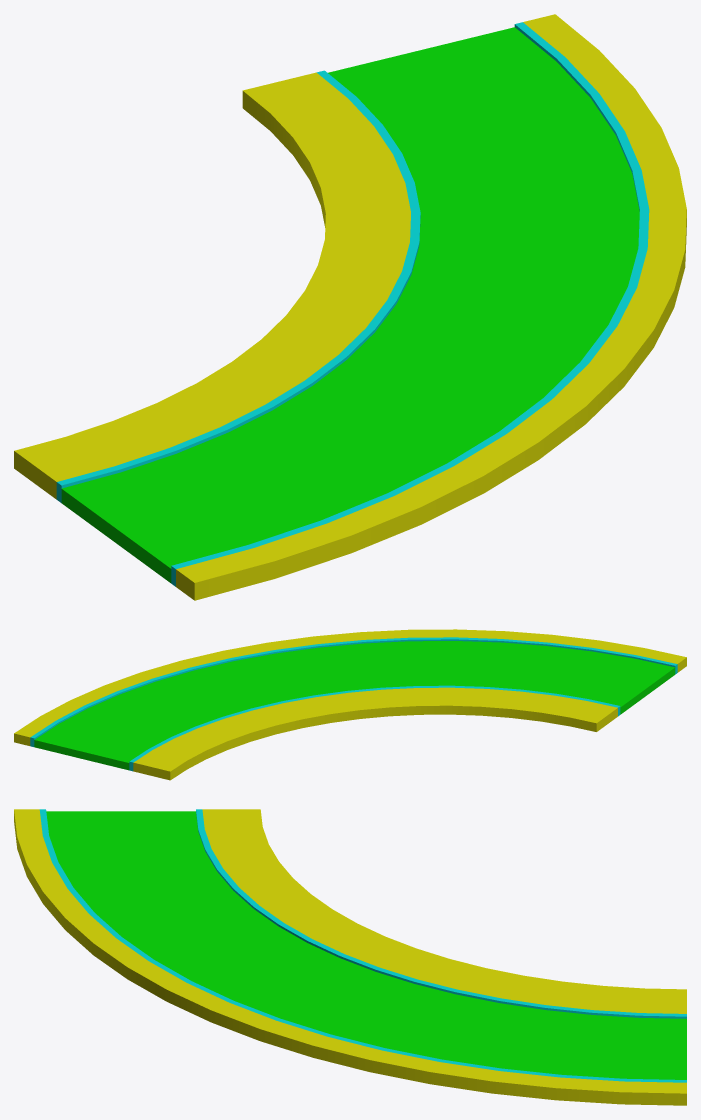
Rendered from Left_Turn_road.fbx.
3 renders of one model, top to bottom at view 1: azimuth 30°, elevation 25°; view 2: azimuth 150°, elevation 25°; view 3: azimuth 270°, elevation 25°, orthographic. The views are drawn at different scales.
Visible parts, largest first — view 1: Left_Turn_road; view 2: Left_Turn_road; view 3: Left_Turn_road.
Part boxes in pixels (x1,y1,x2,y2): Left_Turn_road: (14, 14, 686, 600); Left_Turn_road: (14, 629, 686, 780); Left_Turn_road: (14, 809, 686, 1105).
Size of the model in its own units: 1513 by 30.14 by 1513.
